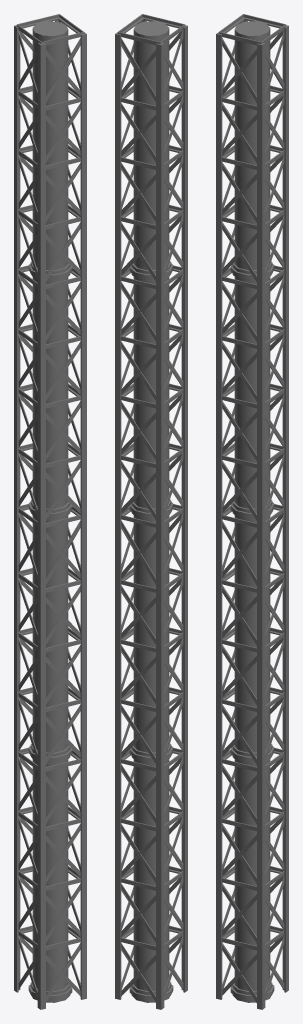
File: tesla_props_pipes_01_cage_xl.dae
The picture shows the model from 3 angles, left to right: view 1: azimuth 30°, elevation 25°; view 2: azimuth 150°, elevation 25°; view 3: azimuth 330°, elevation 25°; orthographic projection.
Parts seen in each view (by area): view 1: polySurface369; view 2: polySurface369; view 3: polySurface369.
Boxes of the visible parts, x1,y1,x2,y2 form: polySurface369: (14,14,86,1009); polySurface369: (115,14,187,1009); polySurface369: (216,14,288,1009).
Size of what is drawn, in the model's own units: 1.5 by 30.05 by 1.5.
